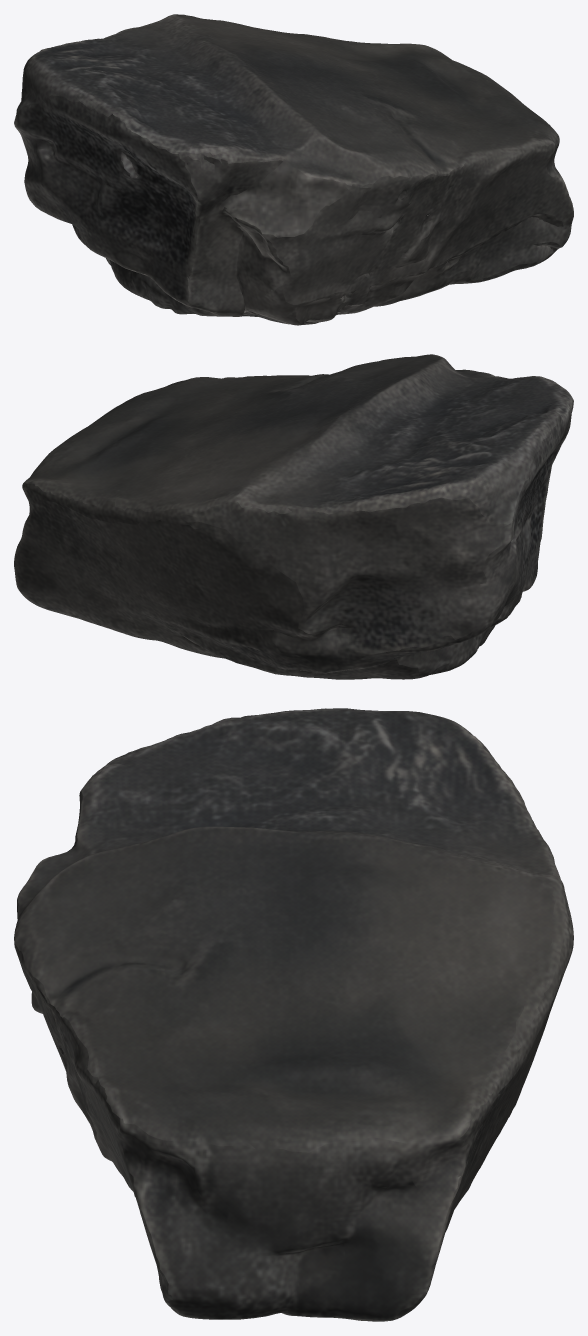
3 views of the same model, one above another, from view 1: azimuth 30°, elevation 25°; view 2: azimuth 150°, elevation 25°; view 3: azimuth 270°, elevation 25° (orthographic). The views are drawn at different scales.
Visible parts, largest first — view 1: world; view 2: world; view 3: world.
Part boxes in pixels (x1,y1,x2,y2): world: (14,14,573,325); world: (14,354,573,679); world: (14,708,573,1321).
Size of the model in its own units: 3.5 by 1.75 by 2.67.
1 material, 1 textured.
